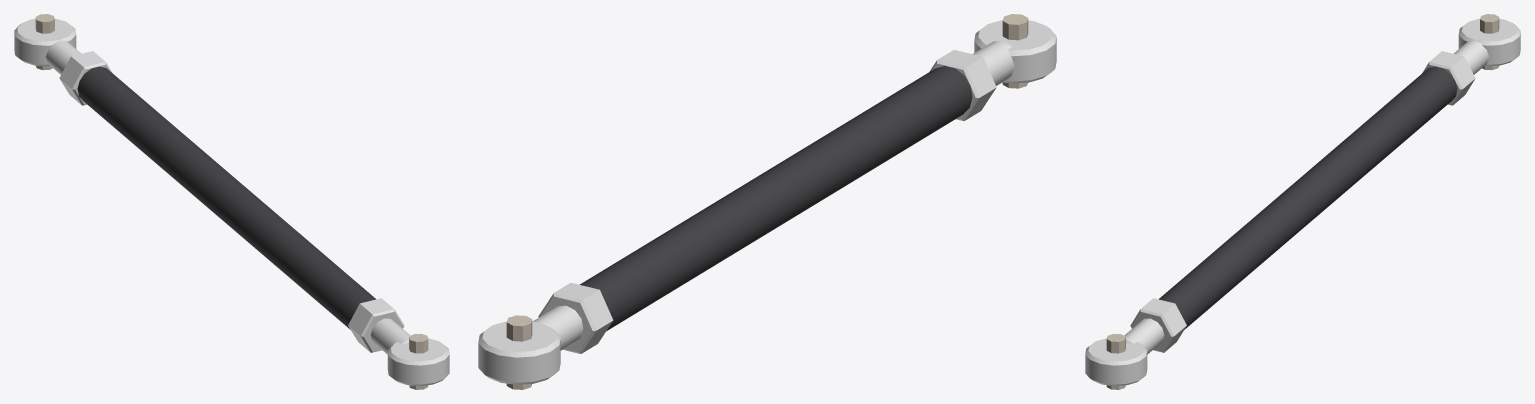
Rendered from SM_Susp_RL_ToeLink.fbx.
3 renders of one model, left to right at view 1: azimuth 30°, elevation 25°; view 2: azimuth 150°, elevation 25°; view 3: azimuth 330°, elevation 25°, orthographic. The views are drawn at different scales.
Visible parts, largest first — view 1: Export_Susp_RL_ToeLink; view 2: Export_Susp_RL_ToeLink; view 3: Export_Susp_RL_ToeLink.
Boxes of the visible parts, x1,y1,x2,y2 form: Export_Susp_RL_ToeLink: (14, 14, 449, 389); Export_Susp_RL_ToeLink: (478, 14, 1056, 389); Export_Susp_RL_ToeLink: (1085, 14, 1520, 389).
Bounding box in the file's own units: 0.3794 × 0.0287 × 0.0488.
